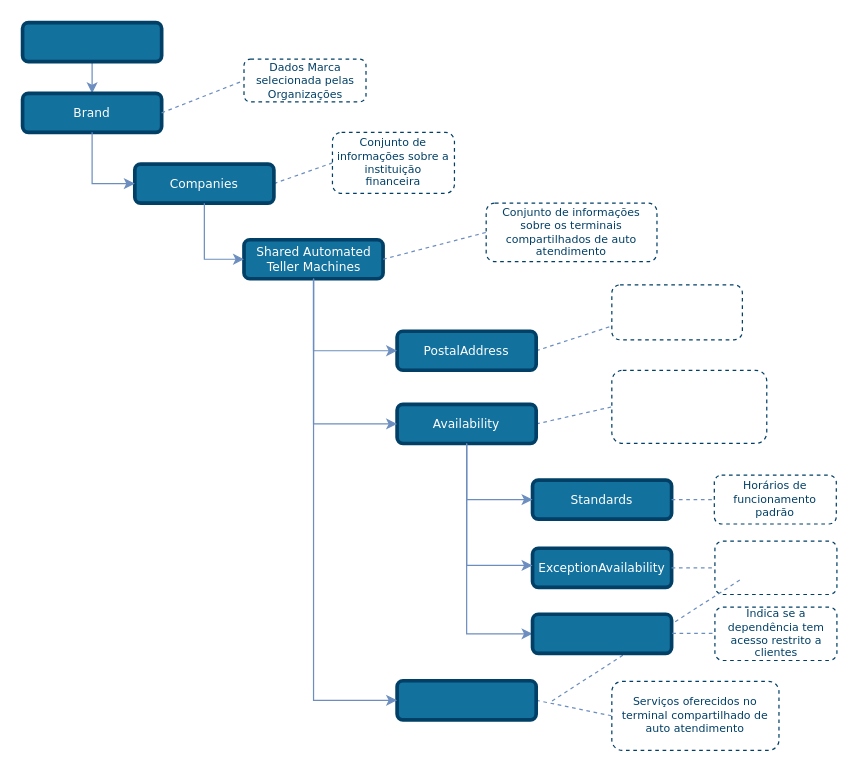
This 859x772 diagram has some shape labels left out. Each missing label, with the centre of its shape:
AllowPublicAccess: (601,633)
Conjunto de informações sobre a disponibilidade do terminal de auto atendimento: (689,406)
Endereço do terminal compartilhado de auto atendimento: (676,312)
Exceções do funcionamento padrão: (775,567)
Open Banking: (91,41)
Services: (466,699)
